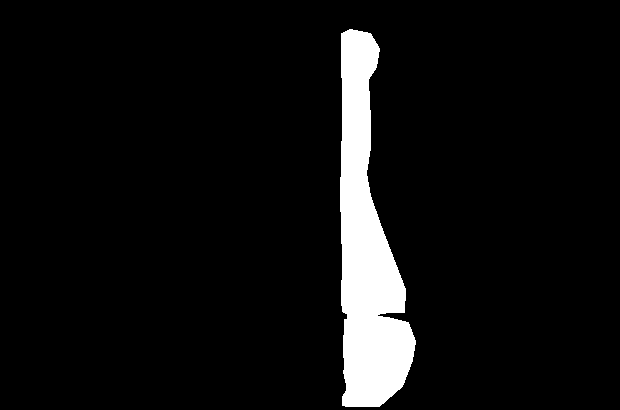type5: (335, 26, 416, 409)
